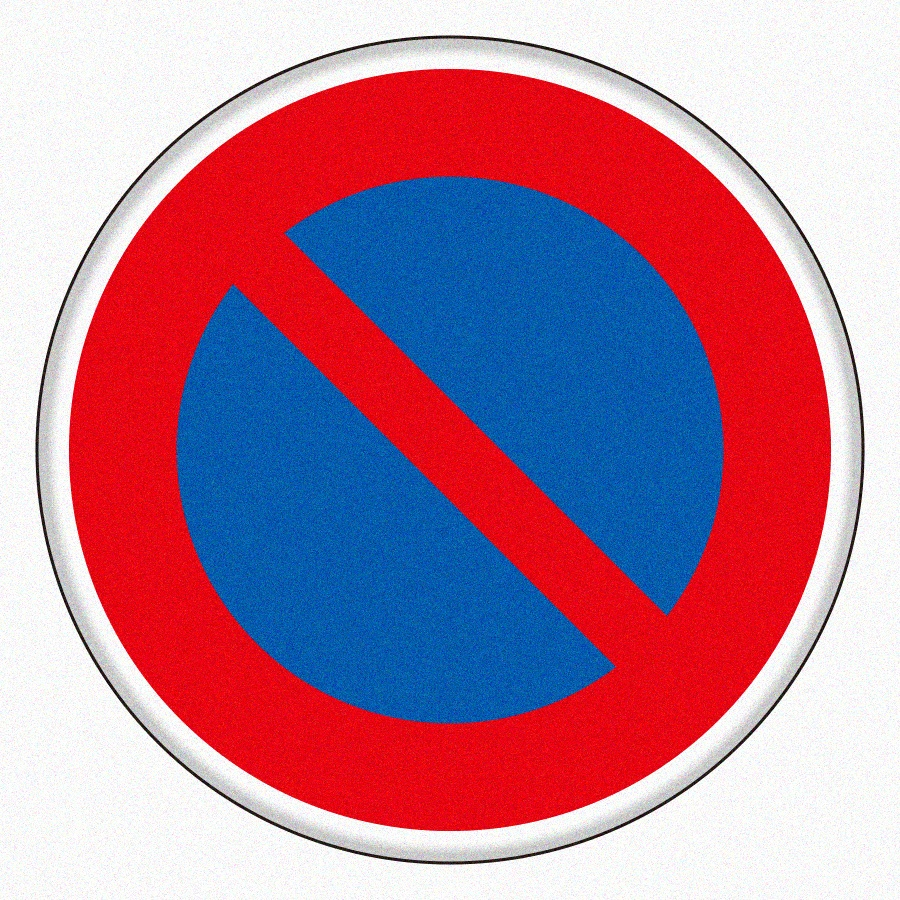Prohibition_sign: (19, 24, 877, 870)
